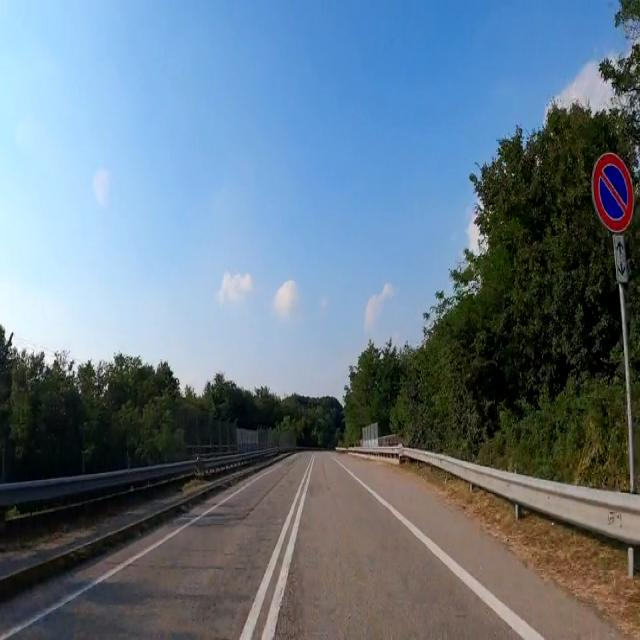lane: (334, 458, 542, 639), (0, 494, 235, 640), (239, 463, 309, 639), (261, 458, 313, 640), (261, 538, 281, 590)
road: (0, 452, 617, 638)
